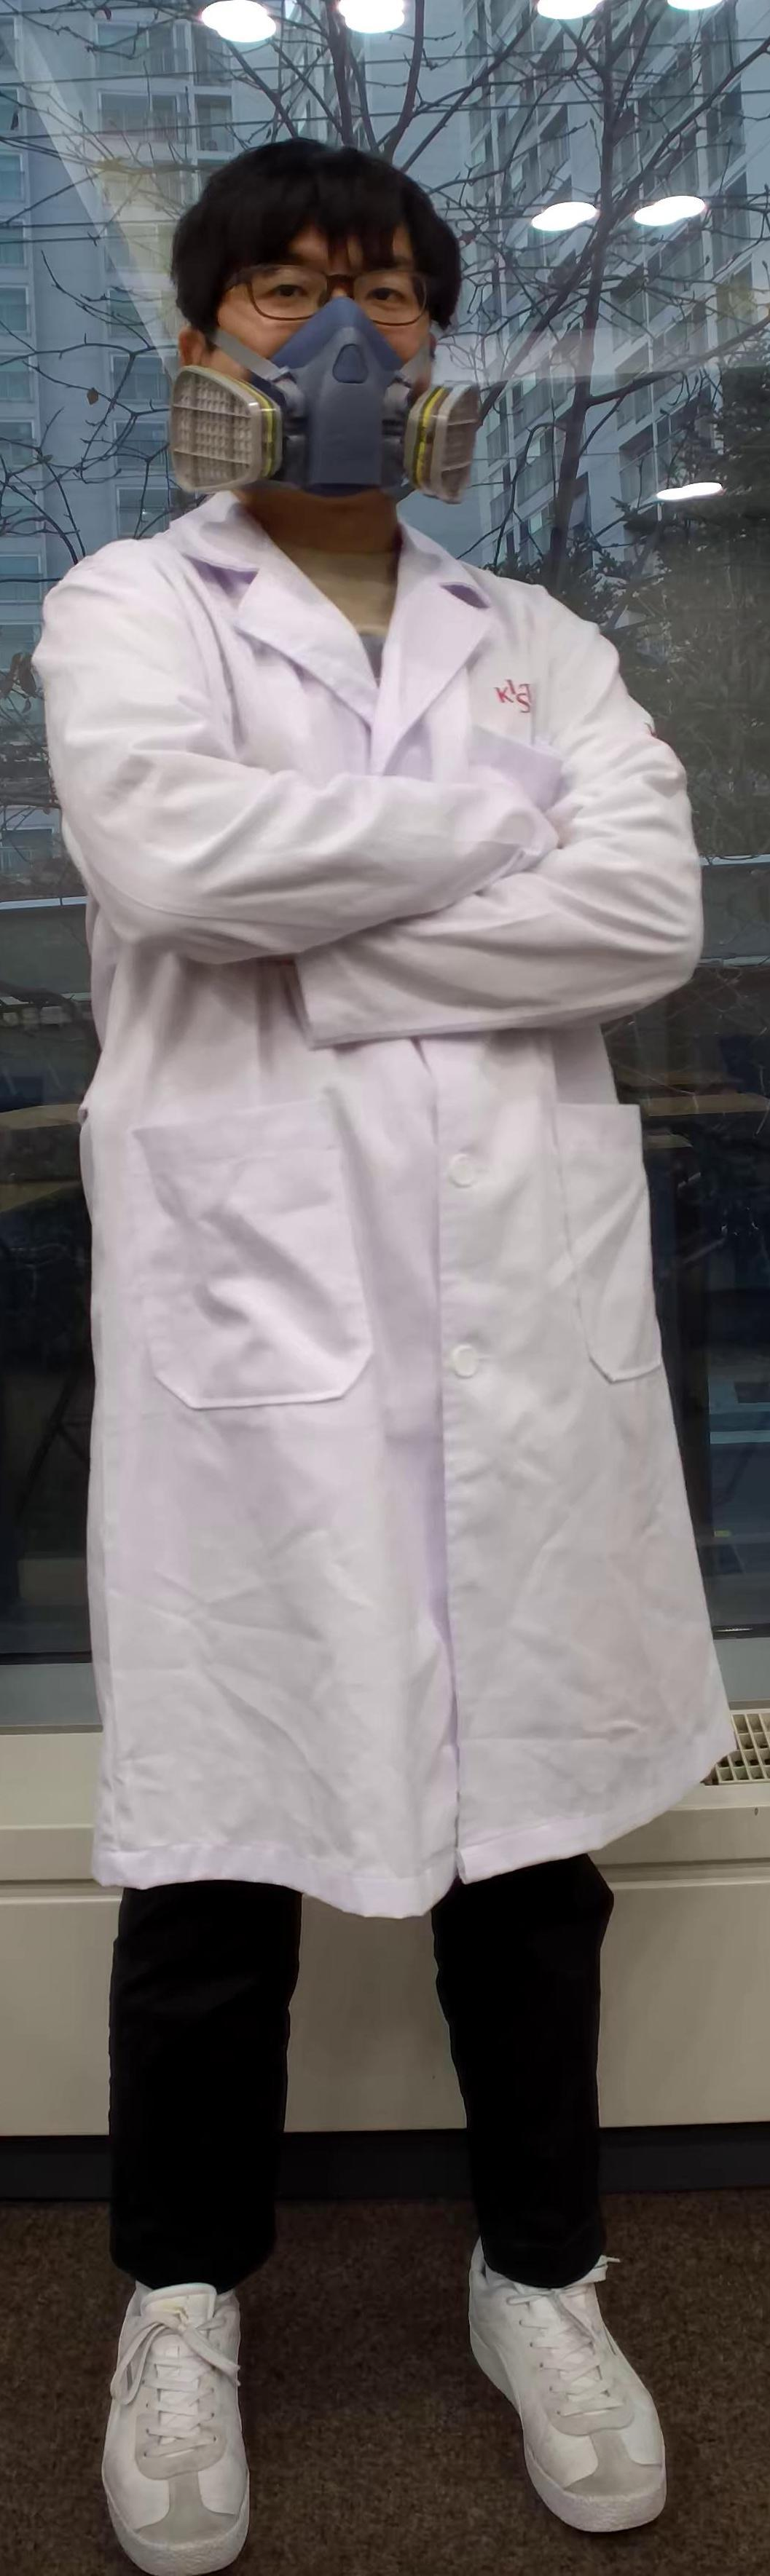lab_coat: (8, 562, 770, 1901)
